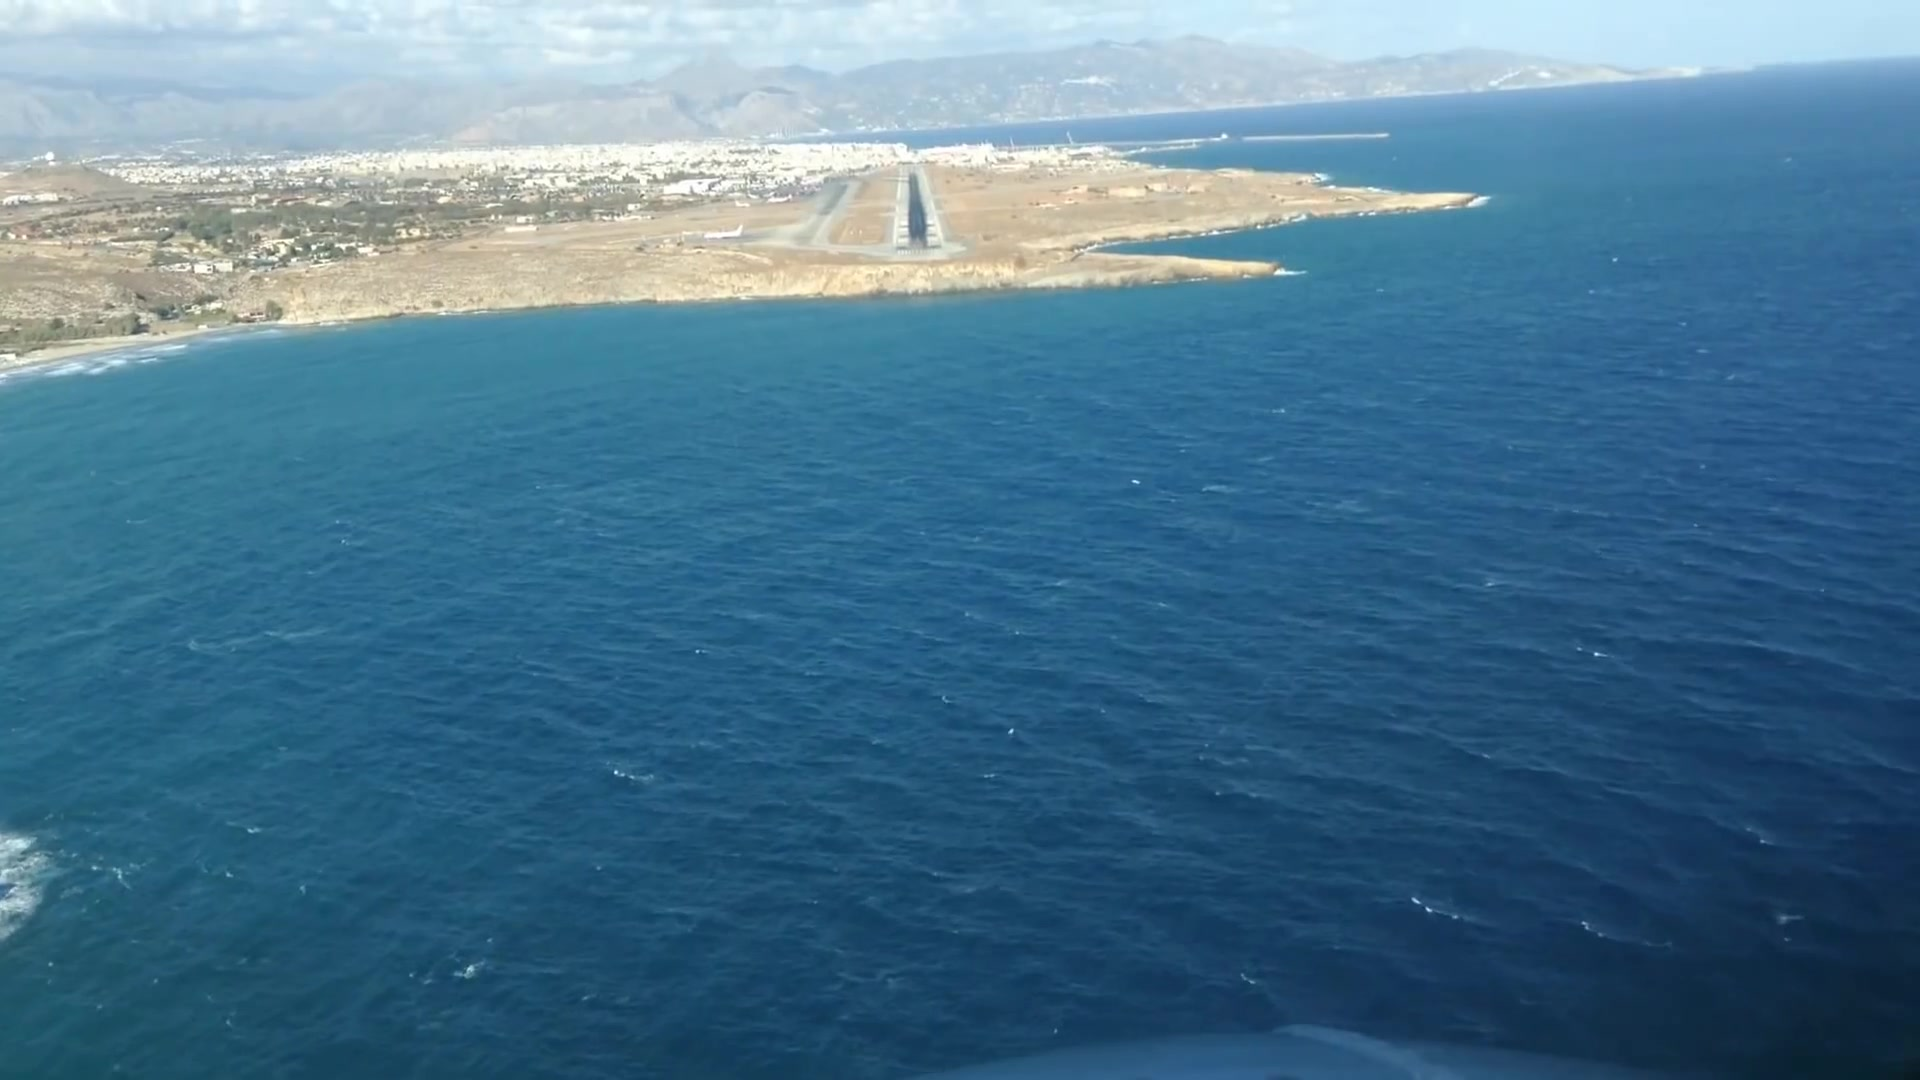entrance: (895, 249, 942, 256)
runway: (889, 165, 943, 260)
